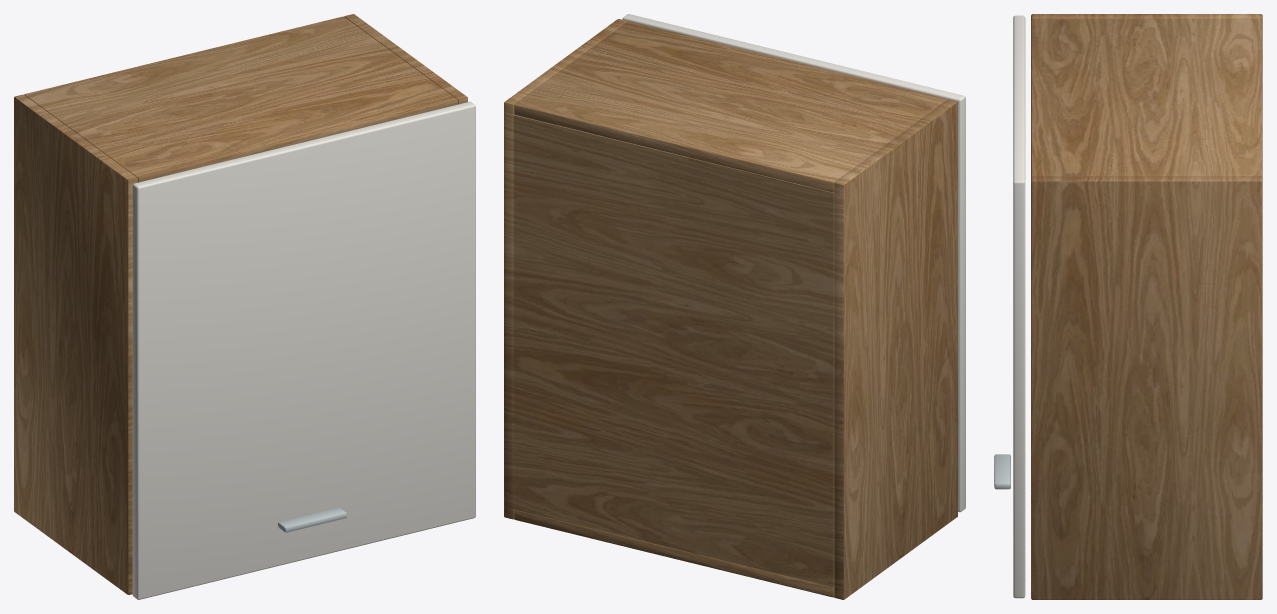
The model's file is armario_alto_cocina_600_base.glb.
3 renders of one model, left to right at view 1: azimuth 30°, elevation 25°; view 2: azimuth 150°, elevation 25°; view 3: azimuth 270°, elevation 25°, orthographic.
Visible parts, largest first — view 1: armario_alto_cocina_600_base; view 2: armario_alto_cocina_600_base; view 3: armario_alto_cocina_600_base.
Boxes of the visible parts, x1,y1,x2,y2 form: armario_alto_cocina_600_base: (14, 14, 475, 599); armario_alto_cocina_600_base: (504, 14, 965, 599); armario_alto_cocina_600_base: (994, 14, 1262, 599).
Size of the model in its own units: 0.6 by 0.7 by 0.4055.
Materials: 3 (1 with a texture image).
